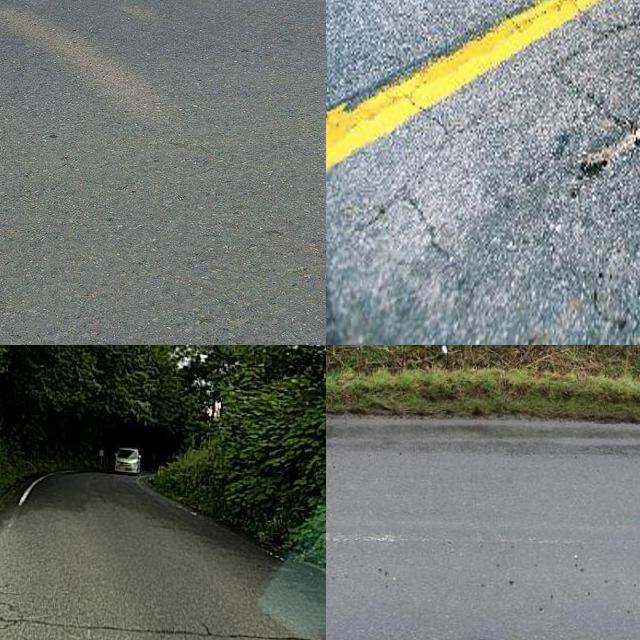Melintang: (0, 605, 326, 640)
